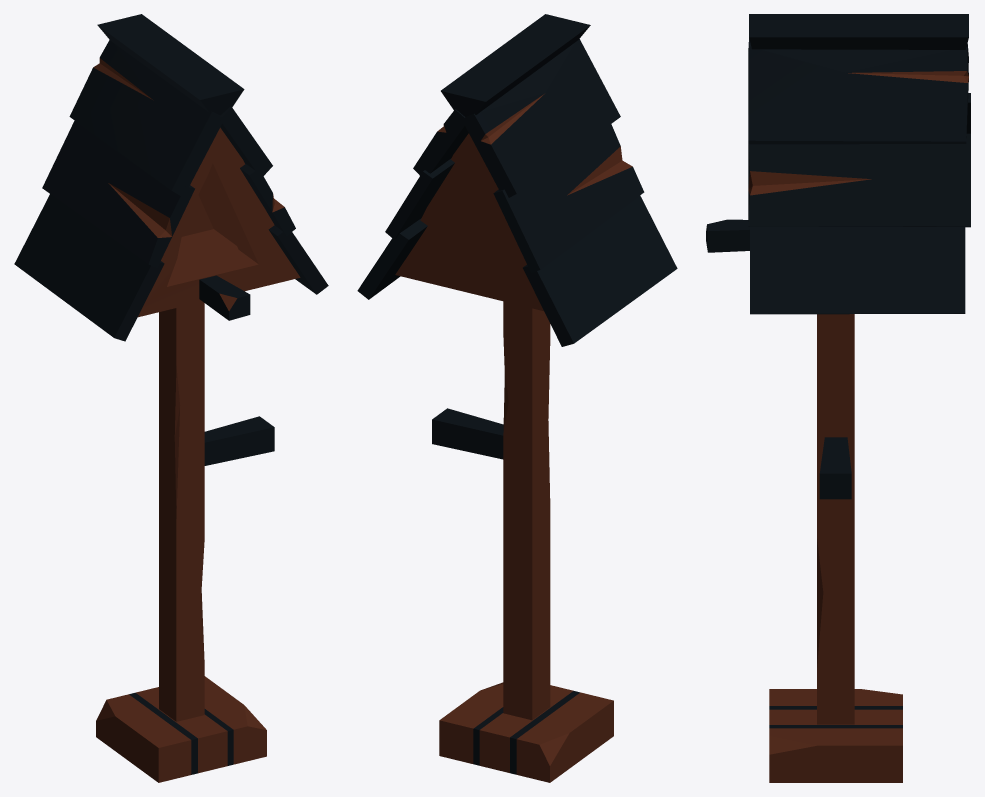
The model's file is Bird_House_2.fbx.
3 renders of one model, left to right at view 1: azimuth 30°, elevation 25°; view 2: azimuth 150°, elevation 25°; view 3: azimuth 270°, elevation 25°, orthographic. The views are drawn at different scales.
Visible parts, largest first — view 1: Bird_House_2; view 2: Bird_House_2; view 3: Bird_House_2.
Boxes of the visible parts, left/top/right/bottom form: Bird_House_2: left=14, top=14, right=328, bottom=782; Bird_House_2: left=357, top=14, right=677, bottom=782; Bird_House_2: left=706, top=14, right=970, bottom=782.
Bounding box in the file's own units: 18.14 × 55.1 × 18.14.
